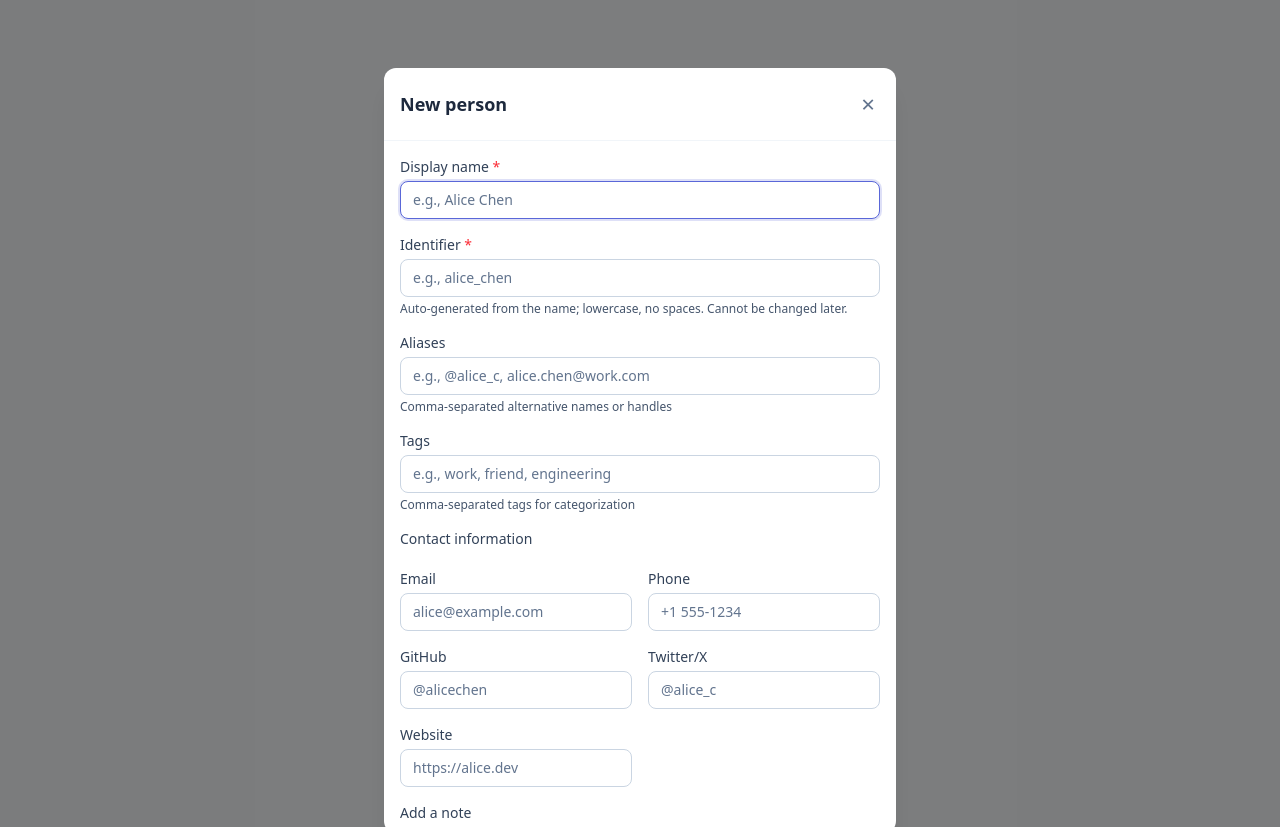
PersonFormModal identifier auto-generation (create) › strips diacritics and punctuation in the generated identifier
Type "José! O’Brien" into the field labelled "Display name *" at [640, 200], box [400,180,880,218]
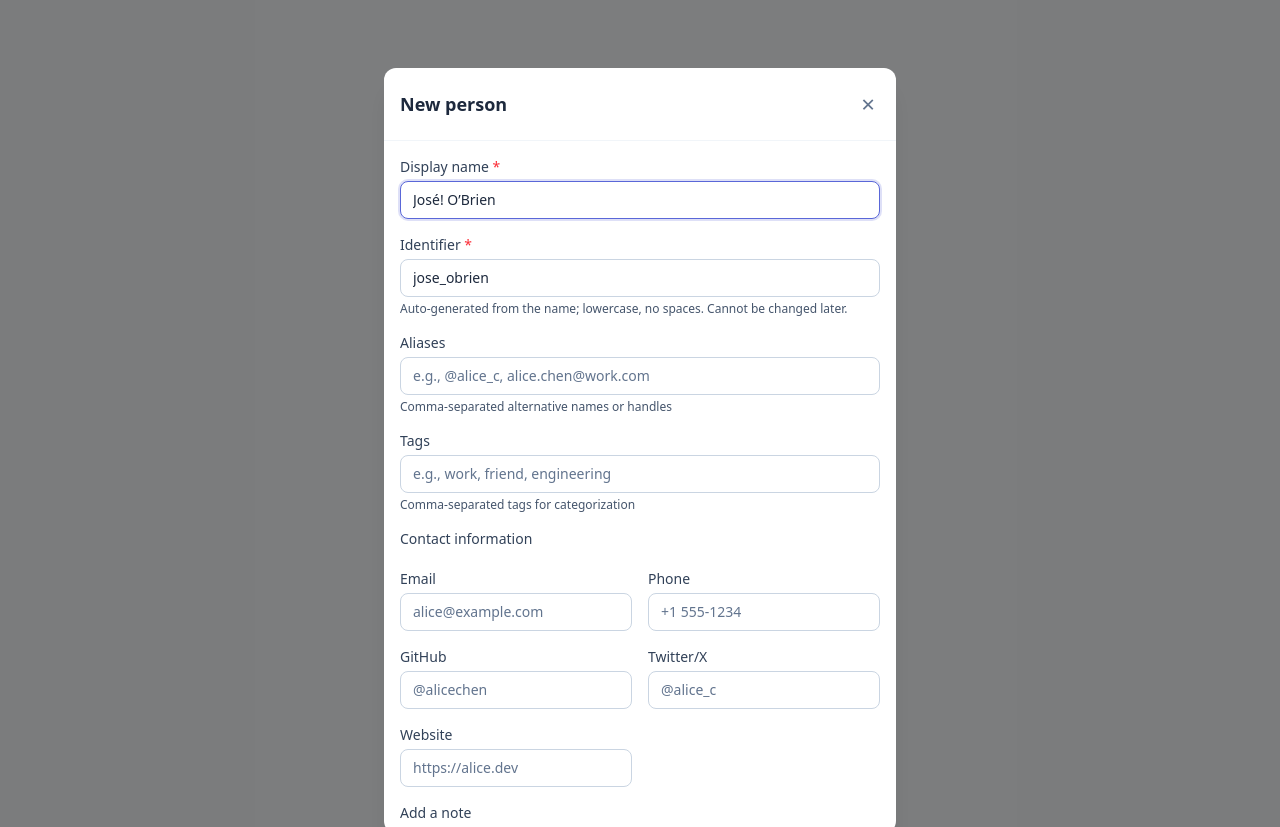
Check: the field labelled "Identifier *" holds "jose_obrien", box [400,258,880,296]
